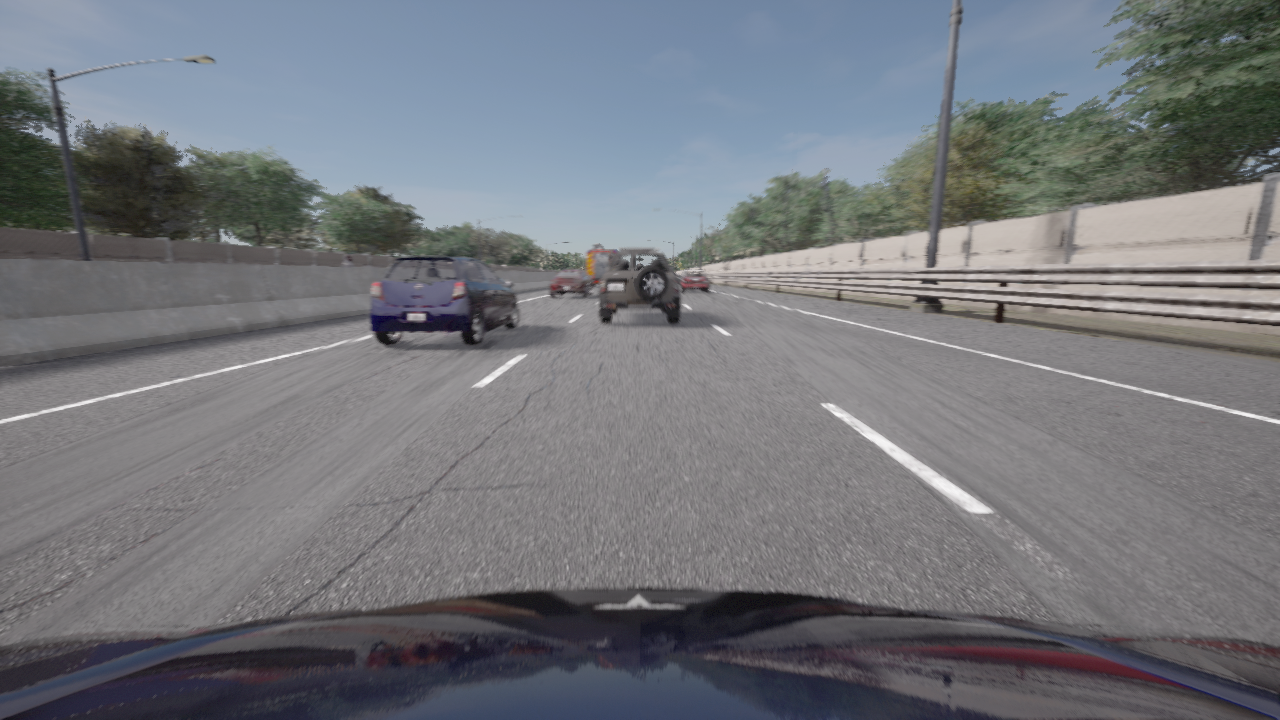cyclist: (0, 588, 1279, 719), (369, 256, 518, 344), (599, 248, 680, 323), (586, 244, 617, 287), (549, 269, 594, 297), (678, 270, 709, 292)
pedestrian: (341, 253, 354, 266)
